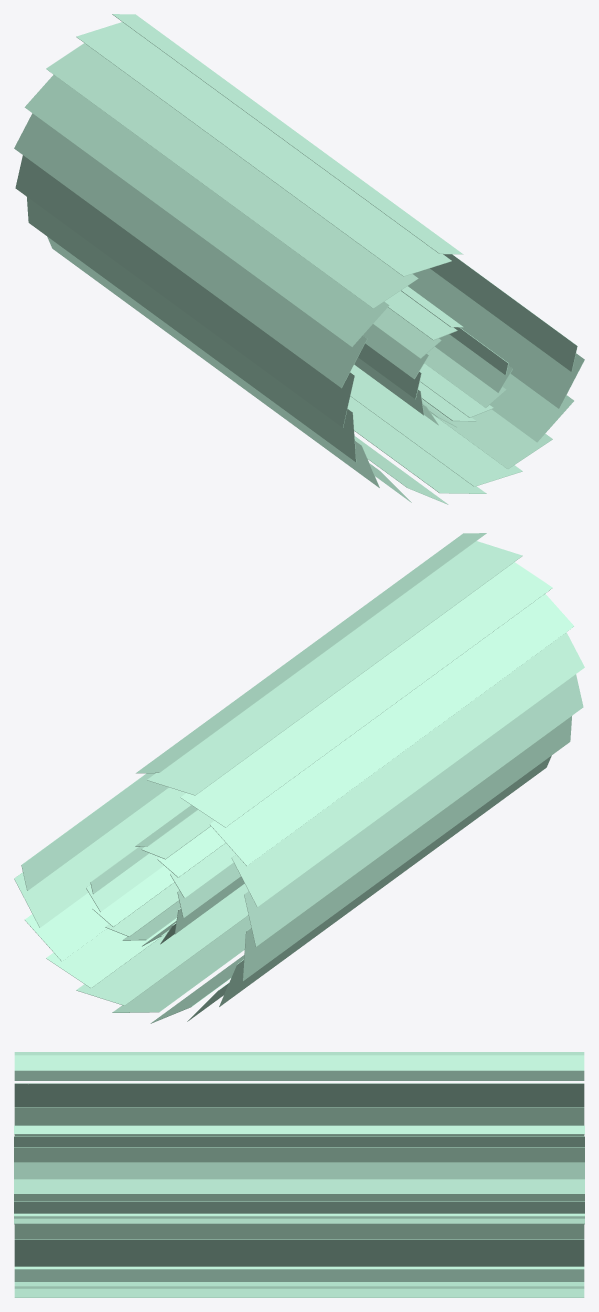
File: ITK-Pixel-Layout-Inner-Barrel-cut3.glb
3 renders of one model, top to bottom at view 1: azimuth 30°, elevation 25°; view 2: azimuth 150°, elevation 25°; view 3: azimuth 270°, elevation 25°, orthographic. The views are drawn at different scales.
Visible parts, largest first — view 1: ITK_Pixel_Layout_Inner_Barrel Cut 3; view 2: ITK_Pixel_Layout_Inner_Barrel Cut 3; view 3: ITK_Pixel_Layout_Inner_Barrel Cut 3.
Part boxes in pixels (bbox=[...]): ITK_Pixel_Layout_Inner_Barrel Cut 3: bbox=[14, 14, 584, 504]; ITK_Pixel_Layout_Inner_Barrel Cut 3: bbox=[14, 533, 584, 1023]; ITK_Pixel_Layout_Inner_Barrel Cut 3: bbox=[14, 1052, 584, 1297].
Size of the model in its own units: 0.2106 by 0.2094 by 0.4918.
